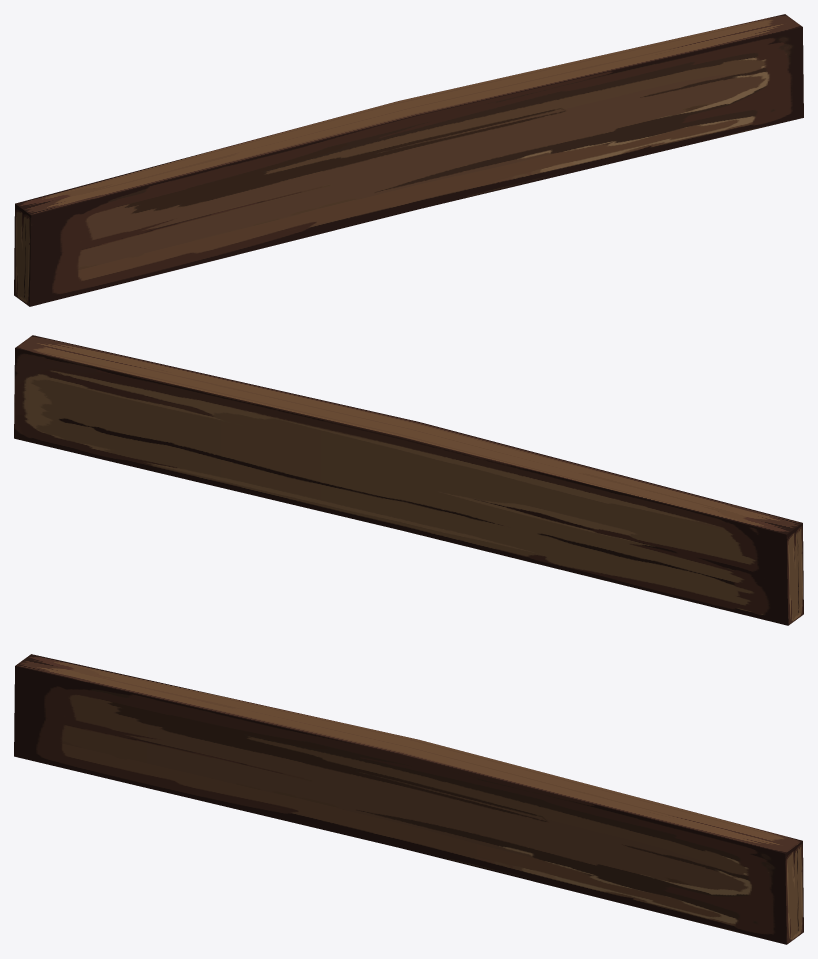
The model's file is SM_PROP_beam_wood_dungeon_03.fbx.
The picture shows the model from 3 angles, top to bottom: view 1: azimuth 30°, elevation 25°; view 2: azimuth 150°, elevation 25°; view 3: azimuth 330°, elevation 25°; orthographic projection.
Visible parts, largest first — view 1: SM_PROP_beam_wood_dungeon_03; view 2: SM_PROP_beam_wood_dungeon_03; view 3: SM_PROP_beam_wood_dungeon_03.
Part boxes in pixels (x1,y1,x2,y2): SM_PROP_beam_wood_dungeon_03: [14, 14, 803, 306]; SM_PROP_beam_wood_dungeon_03: [14, 335, 803, 625]; SM_PROP_beam_wood_dungeon_03: [14, 654, 803, 944].
Bounding box in the file's own units: 404 × 48.62 × 18.07.
